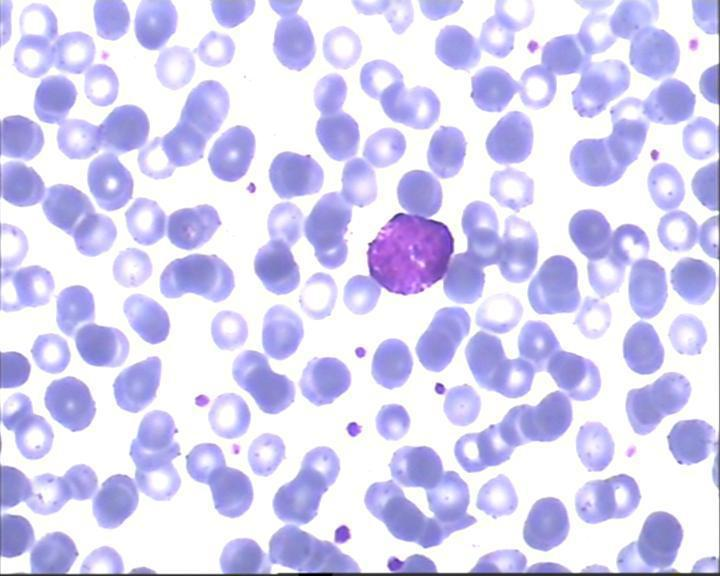baso: (362, 206, 458, 301)
